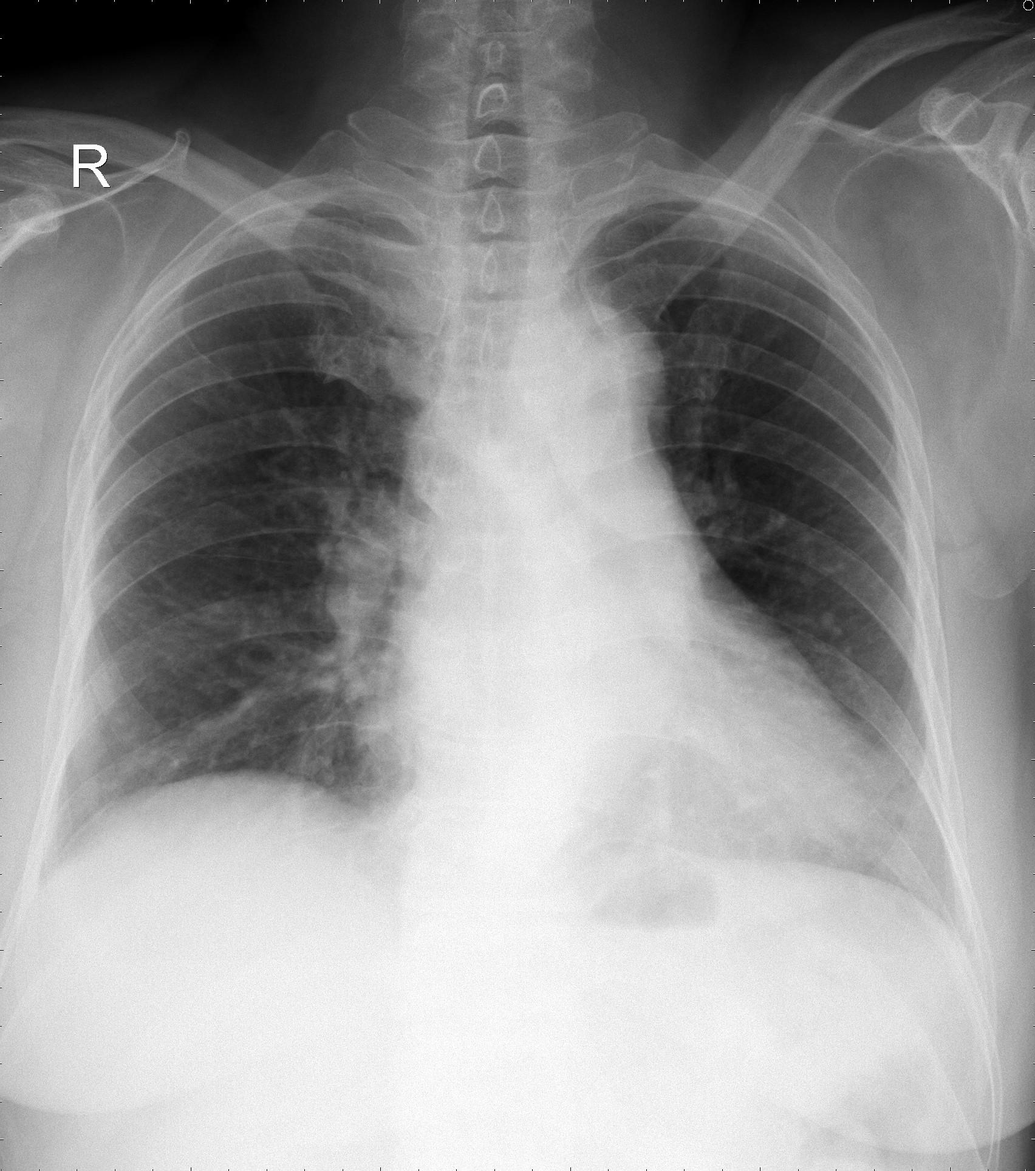Aortic enlargement: (519, 317, 664, 486)
Cardiomegaly: (375, 671, 886, 875)
